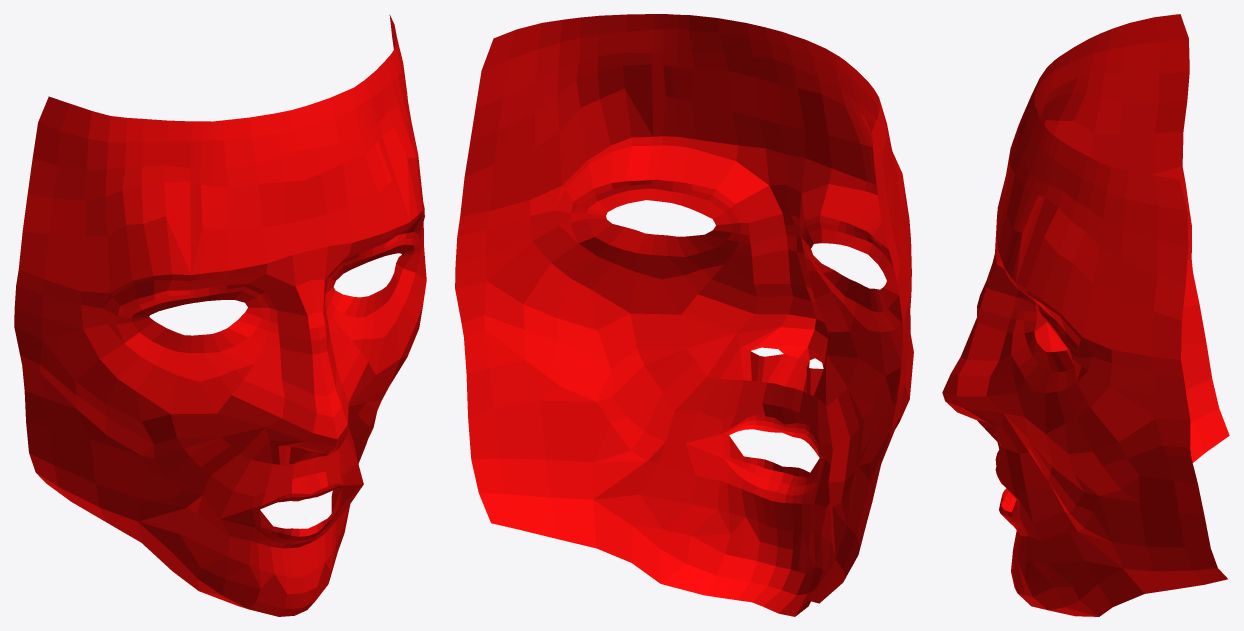
Rendered from maskonly2.glb.
The picture shows the model from 3 angles, left to right: view 1: azimuth 30°, elevation 25°; view 2: azimuth 150°, elevation 25°; view 3: azimuth 270°, elevation 25°; orthographic projection. The views are drawn at different scales.
Visible parts, largest first — view 1: BSurfaceMesh; view 2: BSurfaceMesh; view 3: BSurfaceMesh.
Boxes of the visible parts, box(x1,y1,x2,y2) form: BSurfaceMesh: box(14, 14, 426, 616); BSurfaceMesh: box(455, 14, 913, 616); BSurfaceMesh: box(942, 14, 1229, 616).
Size of the model in its own units: 2.38 by 2.89 by 1.48.
